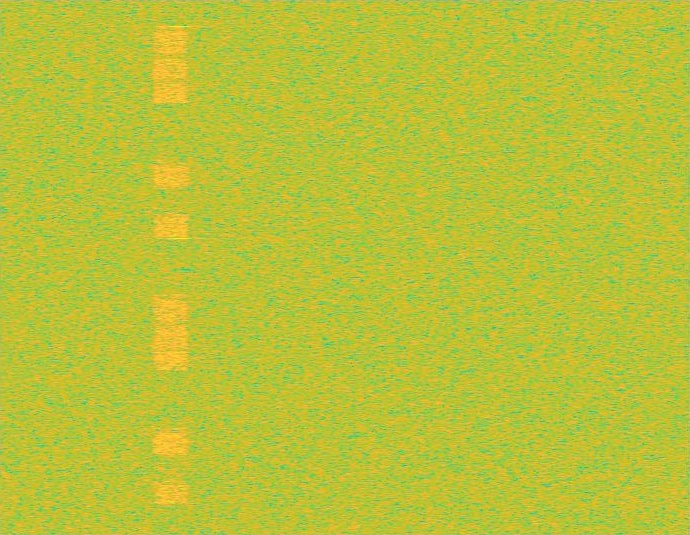LTE: (154, 0, 188, 534)
Radar: (173, 0, 187, 534)
